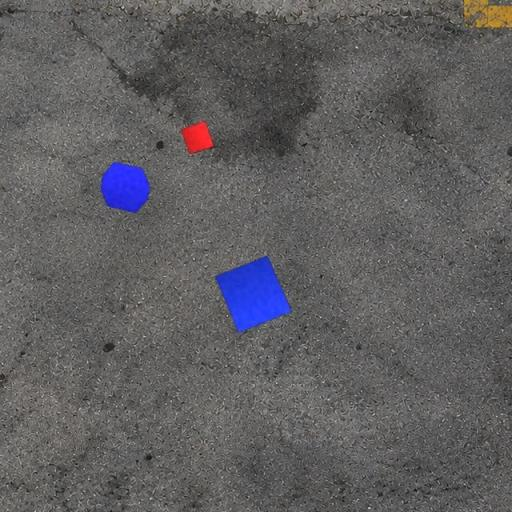BLUE_SQUARE: (214, 255, 293, 334)
RED_SQUARE: (180, 120, 215, 154)
